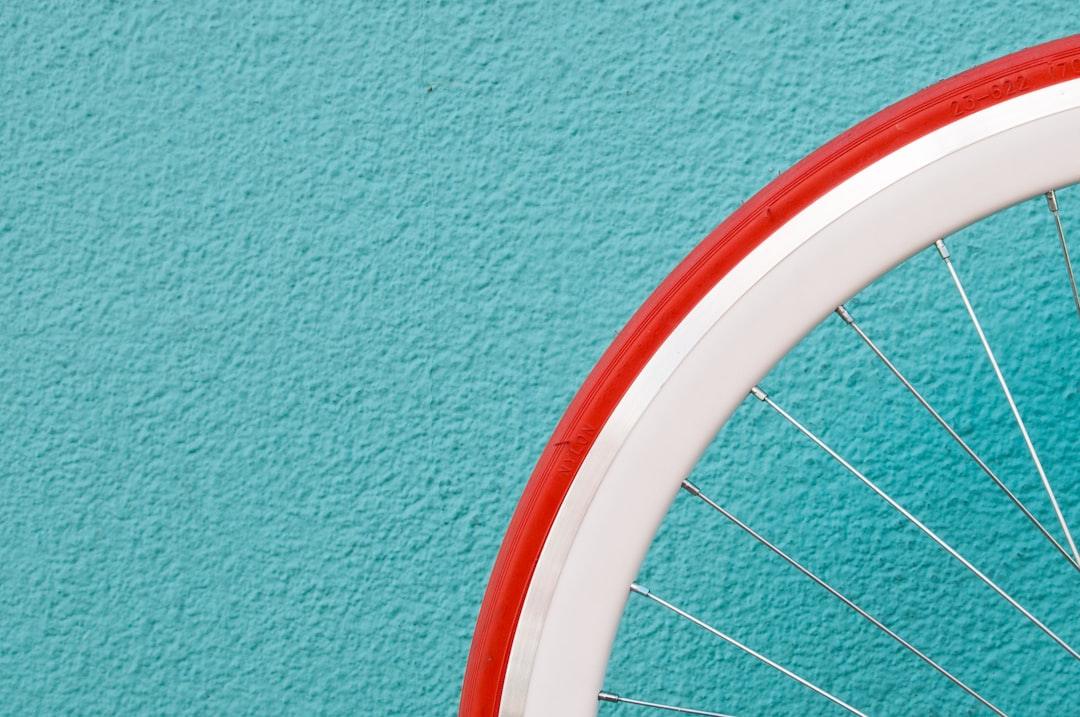bicycle: (455, 34, 1080, 716)
